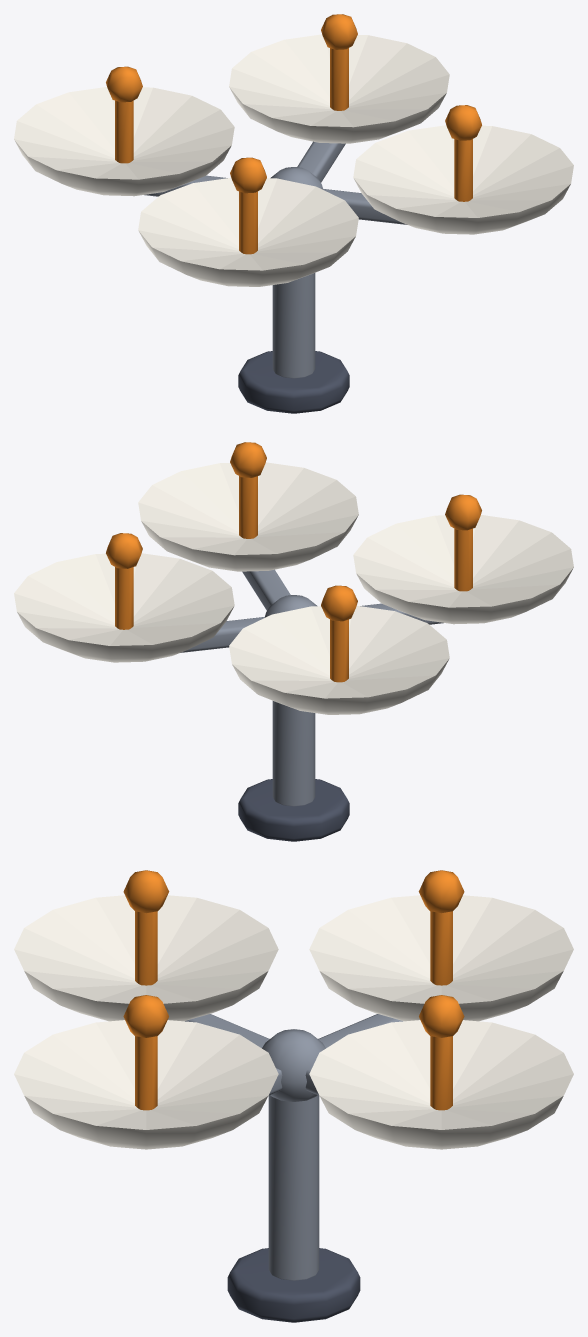
Rendered from Part_HighGainAntenna.fbx.
The picture shows the model from 3 angles, top to bottom: view 1: azimuth 30°, elevation 25°; view 2: azimuth 150°, elevation 25°; view 3: azimuth 270°, elevation 25°; orthographic projection. The views are drawn at different scales.
Visible parts, largest first — view 1: Part_HighGainAntenna.Dishes, Part_HighGainAntenna.Feeds, Part_HighGainAntenna.Foot, Part_HighGainAntenna.Post, Part_HighGainAntenna.Arms; view 2: Part_HighGainAntenna.Dishes, Part_HighGainAntenna.Feeds, Part_HighGainAntenna.Foot, Part_HighGainAntenna.Post, Part_HighGainAntenna.Arms; view 3: Part_HighGainAntenna.Dishes, Part_HighGainAntenna.Feeds, Part_HighGainAntenna.Post, Part_HighGainAntenna.Foot, Part_HighGainAntenna.Arms.
Part boxes in pixels (x1,y1,x2,y2): Part_HighGainAntenna.Dishes: (14, 34, 573, 286); Part_HighGainAntenna.Feeds: (106, 14, 481, 254); Part_HighGainAntenna.Foot: (238, 351, 349, 413); Part_HighGainAntenna.Post: (272, 273, 315, 378); Part_HighGainAntenna.Arms: (144, 141, 407, 224); Part_HighGainAntenna.Dishes: (14, 462, 573, 714); Part_HighGainAntenna.Feeds: (106, 442, 481, 682); Part_HighGainAntenna.Foot: (238, 779, 349, 841); Part_HighGainAntenna.Post: (272, 701, 315, 806); Part_HighGainAntenna.Arms: (180, 569, 443, 652); Part_HighGainAntenna.Dishes: (14, 895, 573, 1149); Part_HighGainAntenna.Feeds: (123, 870, 464, 1110); Part_HighGainAntenna.Post: (268, 1095, 319, 1280); Part_HighGainAntenna.Foot: (227, 1248, 360, 1322); Part_HighGainAntenna.Arms: (185, 1014, 402, 1101).
Bounding box in the file's own units: 1.1 × 0.79 × 1.1.
Materials: 1 (1 with a texture image).
